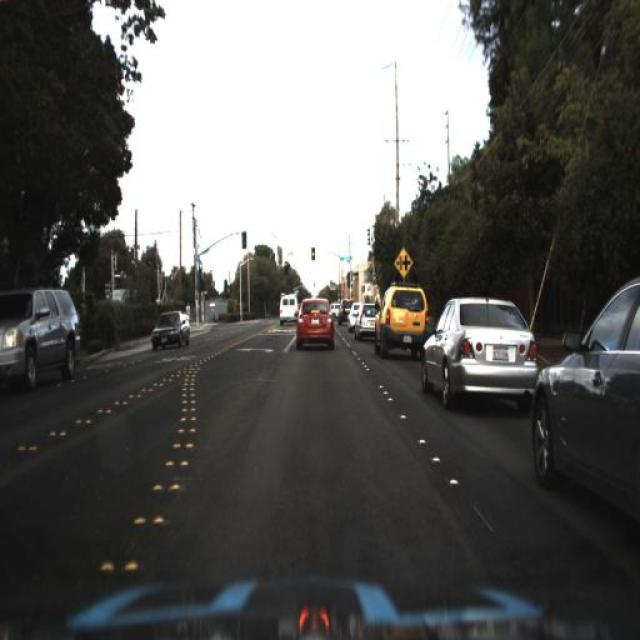car: (530, 271, 640, 528), (416, 292, 536, 420), (1, 283, 83, 395), (289, 286, 342, 362), (376, 278, 426, 352), (146, 308, 193, 356), (274, 286, 300, 332), (356, 294, 376, 342), (336, 294, 355, 328)
trafficLight-Green: (310, 238, 320, 271), (282, 254, 292, 278)
